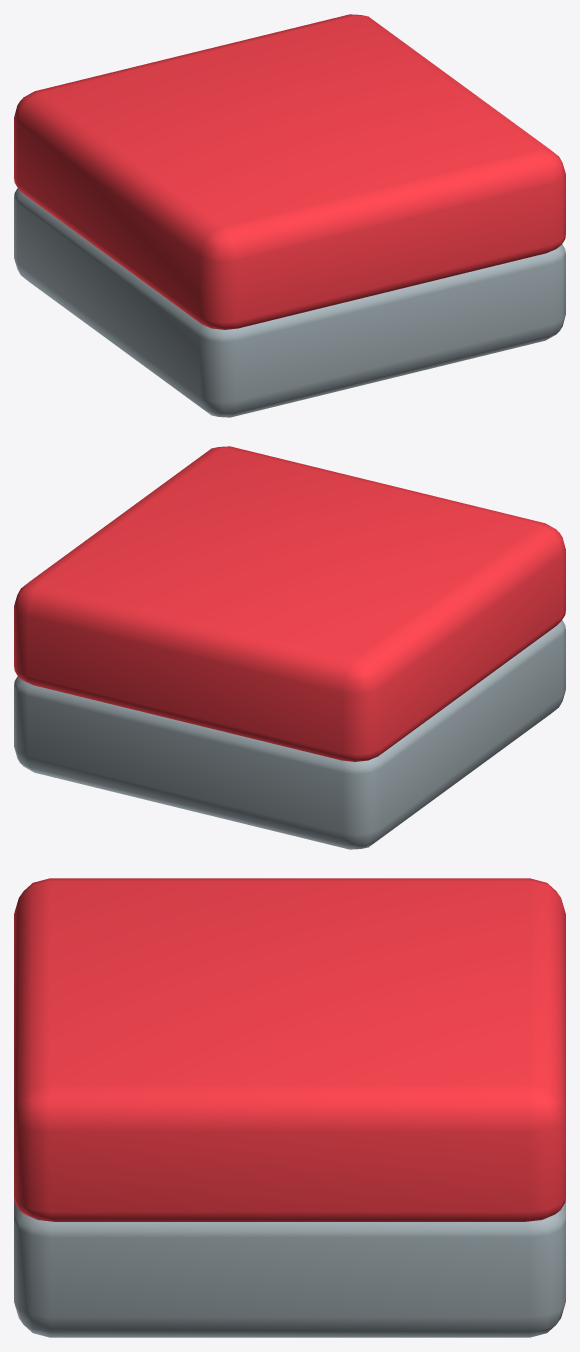
The model's file is tileLow_teamRed.glb.
The picture shows the model from 3 angles, top to bottom: view 1: azimuth 30°, elevation 25°; view 2: azimuth 150°, elevation 25°; view 3: azimuth 270°, elevation 25°; orthographic projection. The views are drawn at different scales.
Parts seen in each view (by area): view 1: tileLow_teamRed; view 2: tileLow_teamRed; view 3: tileLow_teamRed.
Part boxes in pixels (x1,y1,x2,y2): tileLow_teamRed: (14, 14, 565, 417); tileLow_teamRed: (14, 446, 565, 849); tileLow_teamRed: (14, 878, 565, 1337).
Bounding box in the file's own units: 0.7 × 0.35 × 0.7.
